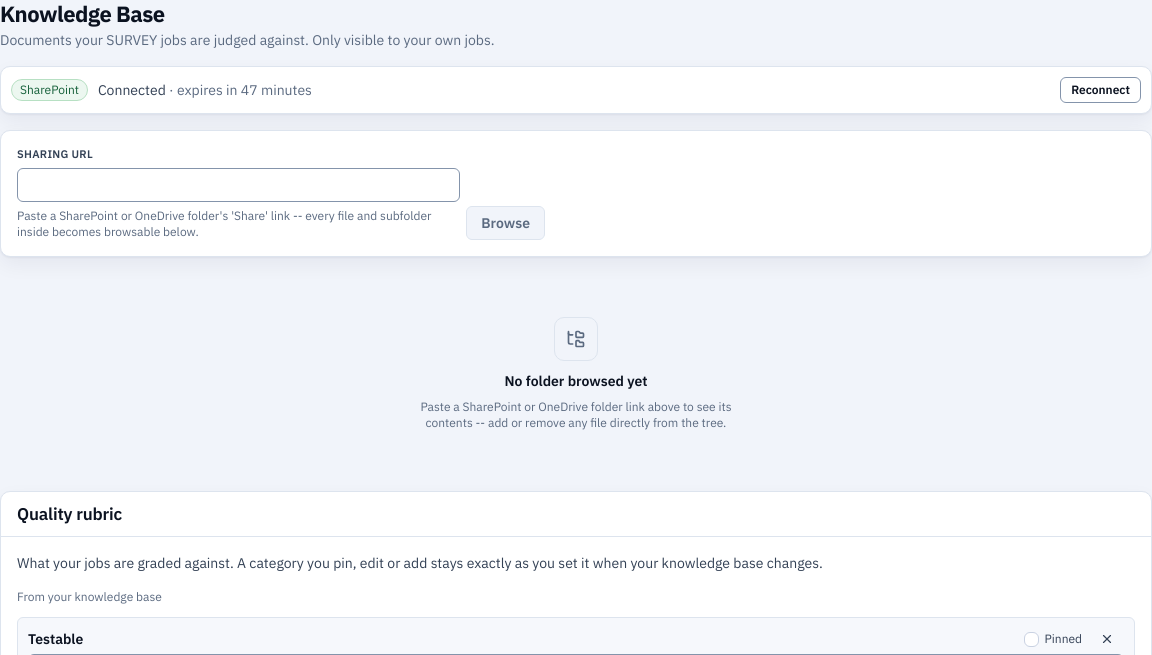
KnowledgeBase › shows a distinct message for an empty folder
The image size is (1152, 655).
Type "https://share.example/empty" into the field labelled "Sharing URL" at (239, 185), box [17,168,460,202]
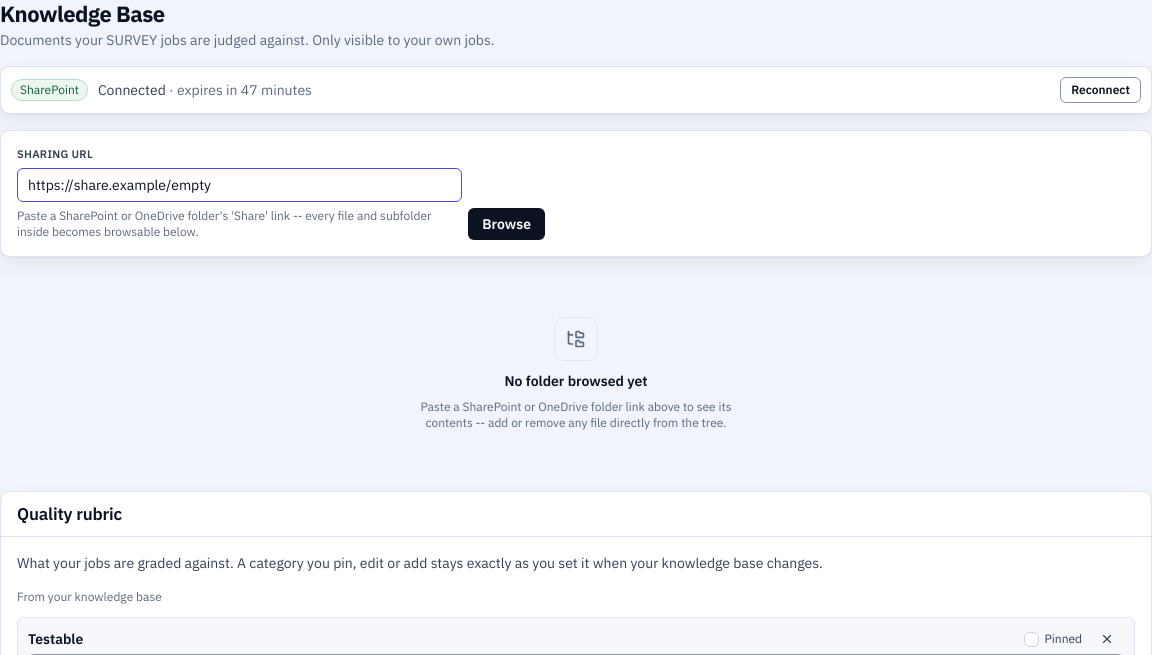
Click the button "Browse" at (507, 224), box [468,208,545,240]
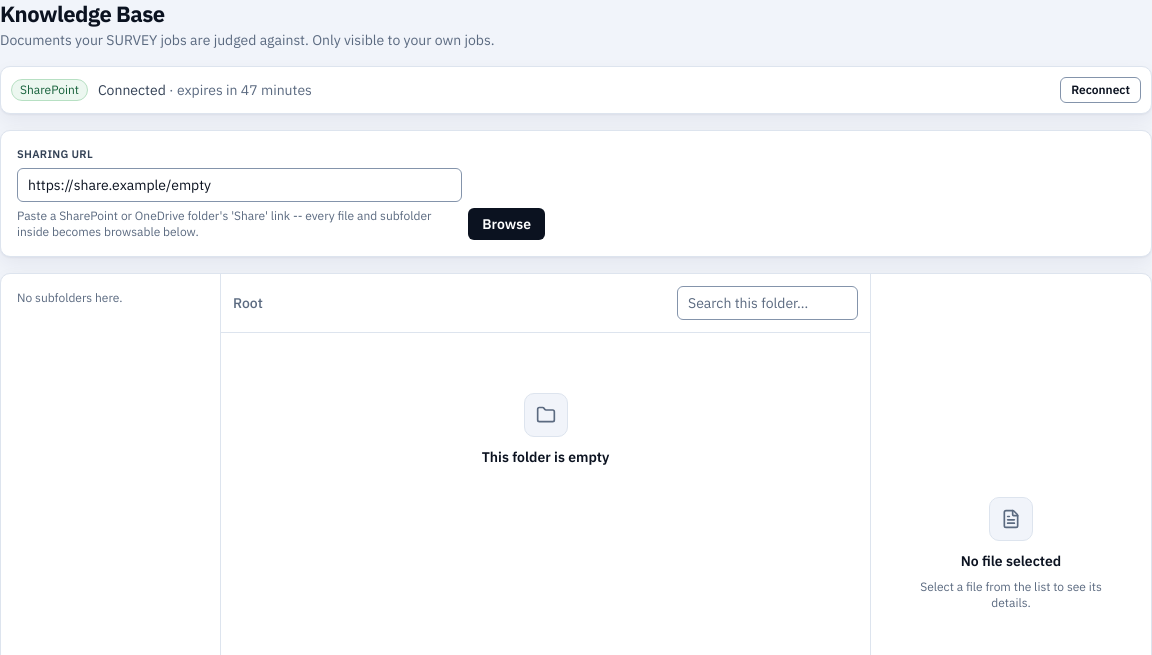
Expected: the heading "This folder is empty" is shown, [482,447,609,467]
